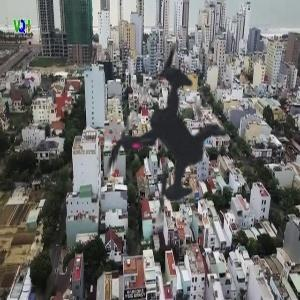drone: (38, 5, 297, 264)
